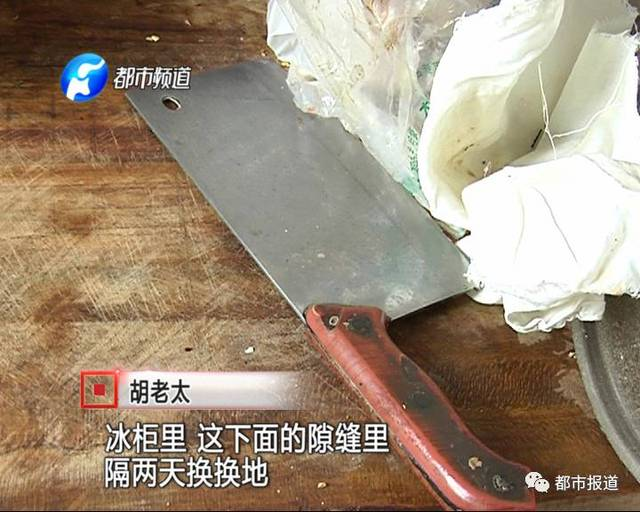knief: (122, 75, 494, 369)
